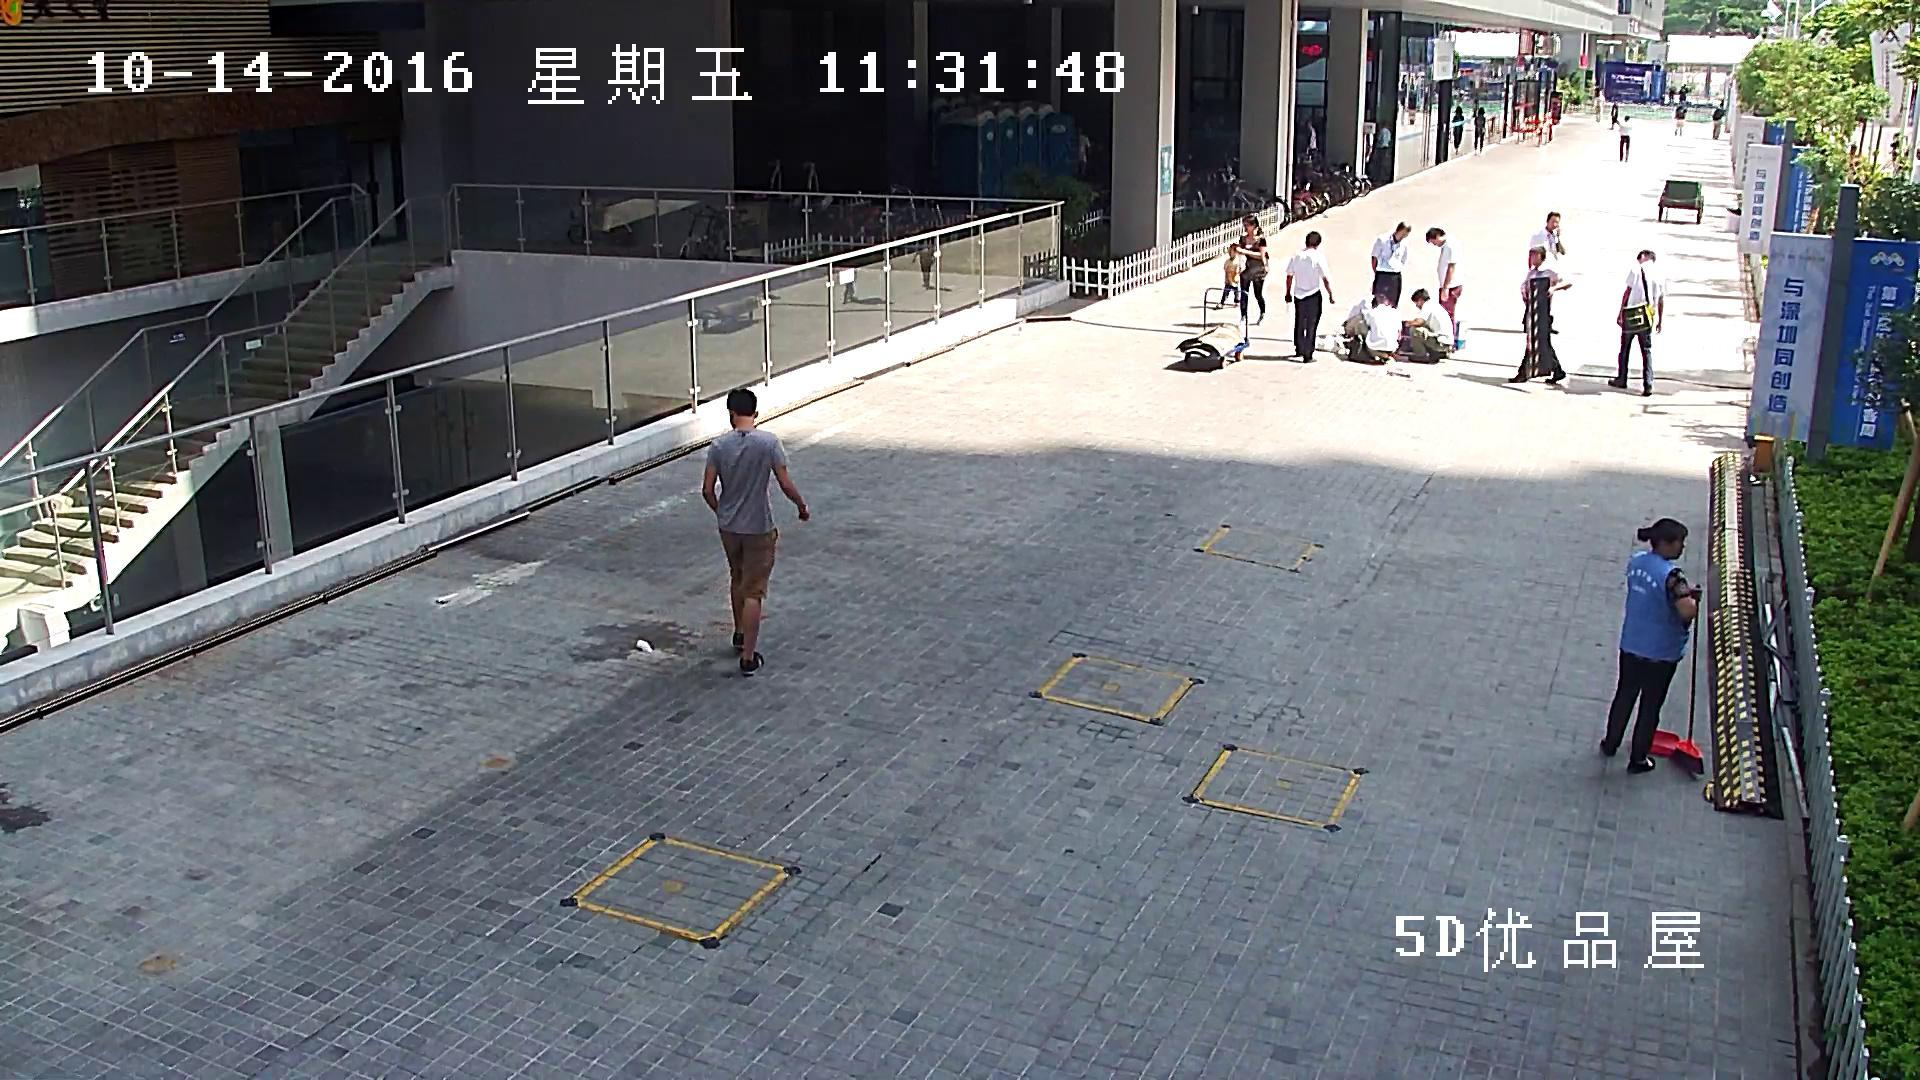person: (700, 387, 811, 676), (1599, 515, 1706, 774), (1599, 516, 1697, 774), (1508, 245, 1572, 385), (1607, 249, 1665, 397), (1284, 230, 1335, 364), (1521, 210, 1568, 336), (1424, 226, 1464, 351), (1406, 288, 1454, 364), (1371, 221, 1412, 310), (1237, 215, 1269, 326), (1359, 286, 1402, 364), (1214, 243, 1240, 309), (911, 244, 936, 290), (1373, 121, 1391, 178), (1616, 114, 1631, 162), (1451, 106, 1464, 154), (1473, 107, 1486, 151), (1673, 98, 1688, 136), (842, 270, 859, 304), (1077, 126, 1090, 163), (1303, 120, 1317, 150), (1711, 104, 1724, 139), (1609, 100, 1620, 130), (1669, 79, 1676, 104)
